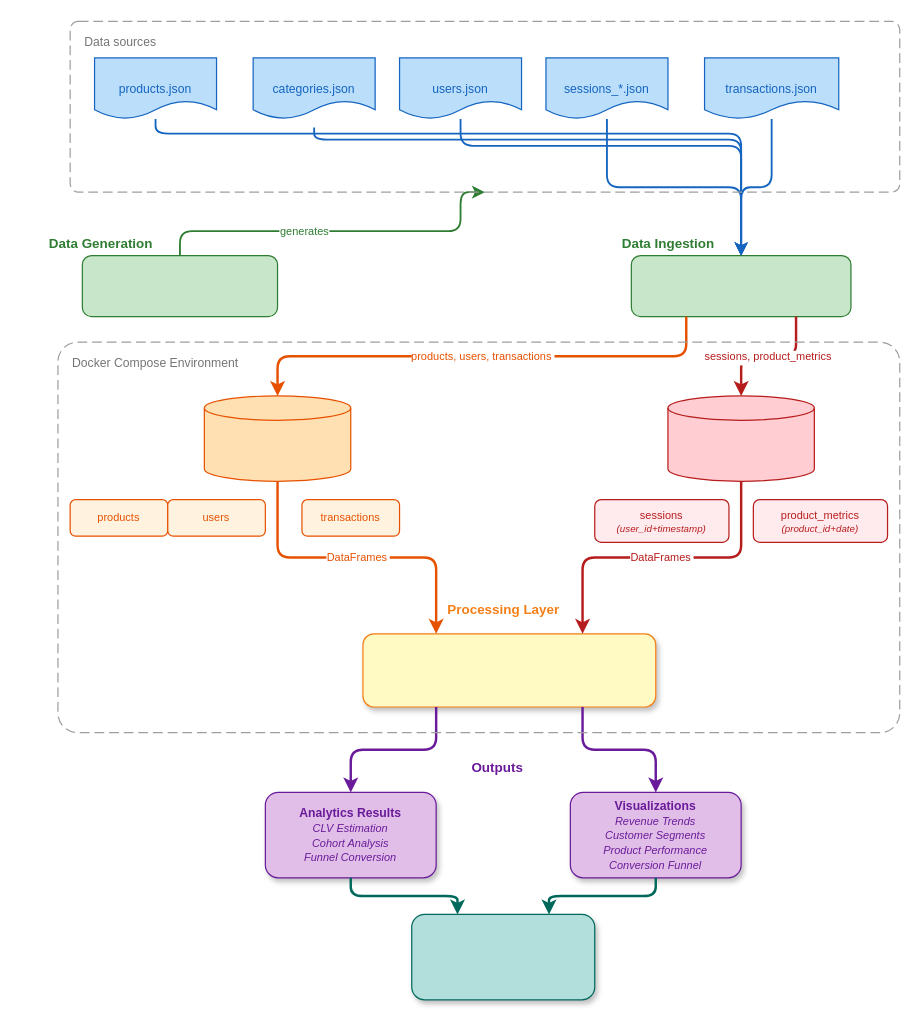
Image size: 921x1030. Some labels were removed from this diagram. Here are the shapes that lost their labels. From the top down, the centre of each, then its label:
At (x=179, y=285): "dataset_generator.py Faker + Pandas".
At (x=740, y=285): "seed_databases.py Load, Denormalize, Index".
At (x=277, y=438): "MongoDB Document Store".
At (x=740, y=438): "HBase Wide-Column Store".
At (x=510, y=672): "Apache Spark PySpark + Spark SQL Batch Processing & Cross-System Analytics".
At (x=504, y=958): "Dashboard Interactive Plots KPI Summary Plotly / Streamlit".
